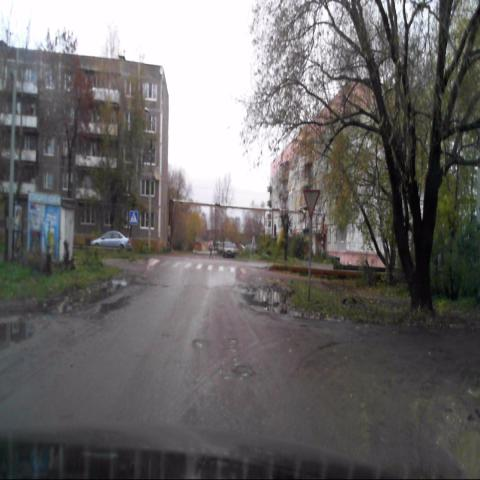1_31: (302, 189, 321, 219)
